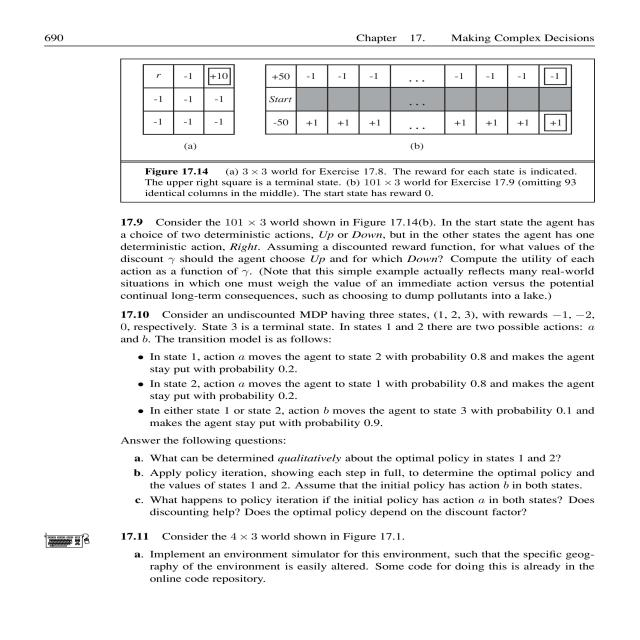diagram: (87, 59, 640, 204)
